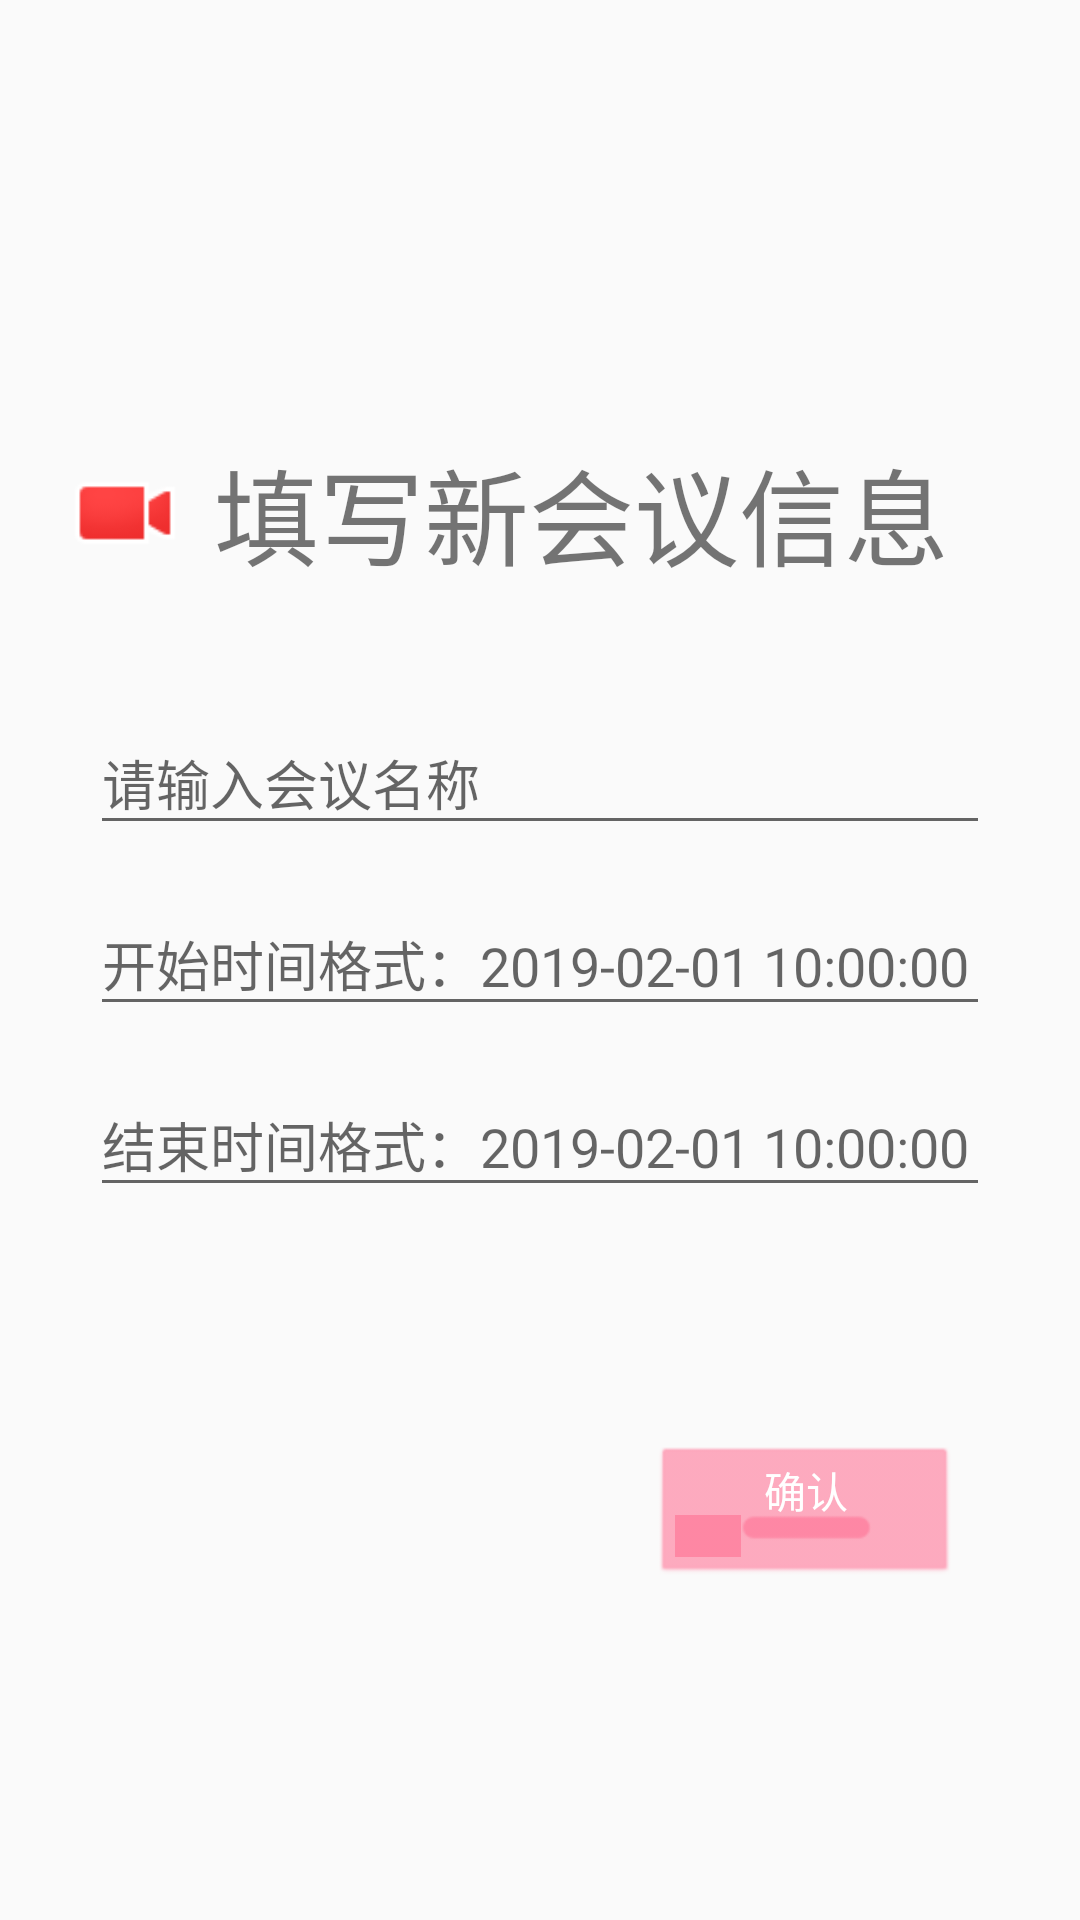

Icon click points for this 1080w x 1920h phone screenshot, format (x=x, y=y):
presence video busy: (x=125, y=513)
